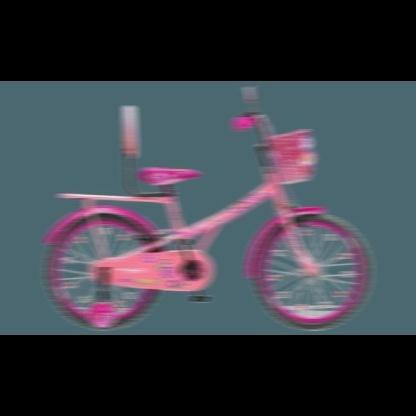Bicycle: (7, 78, 411, 333)
